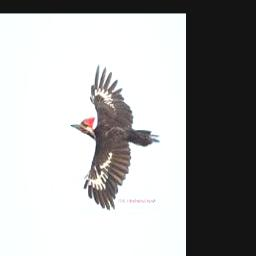Woodpecker: (72, 64, 161, 209)
